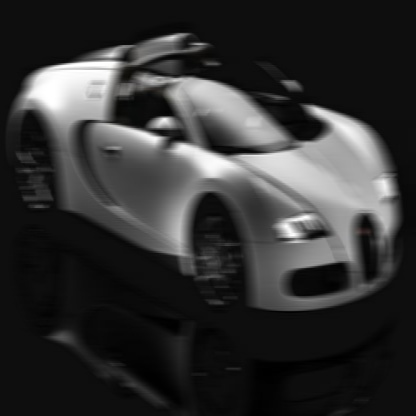Vehicle: (10, 35, 404, 329)
